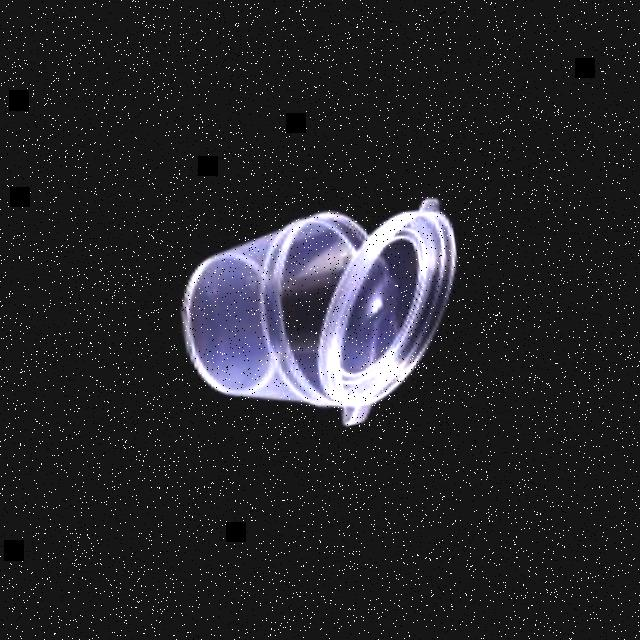plastic_box: (175, 192, 480, 444)
